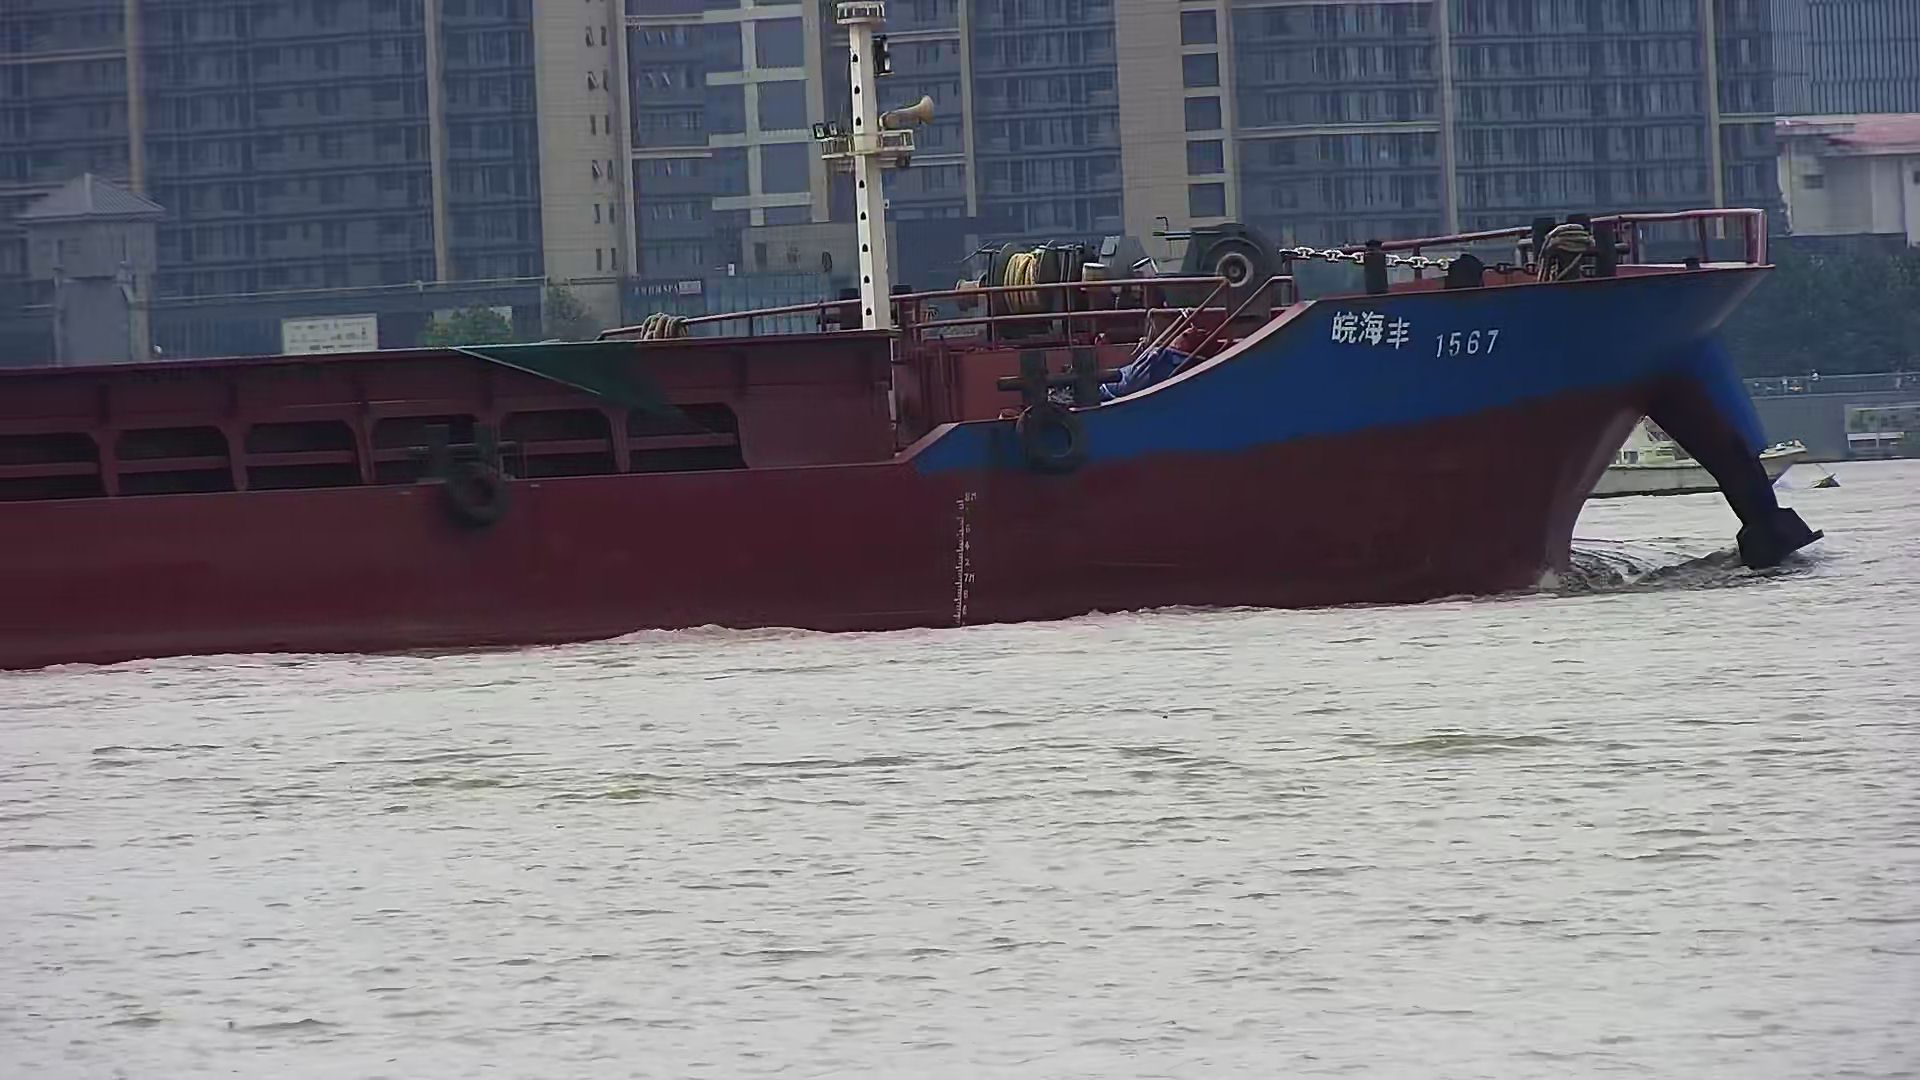ship: (1, 3, 1830, 675)
